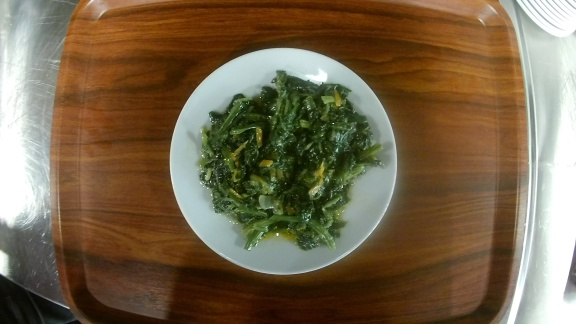ispanak: (165, 44, 402, 276)
